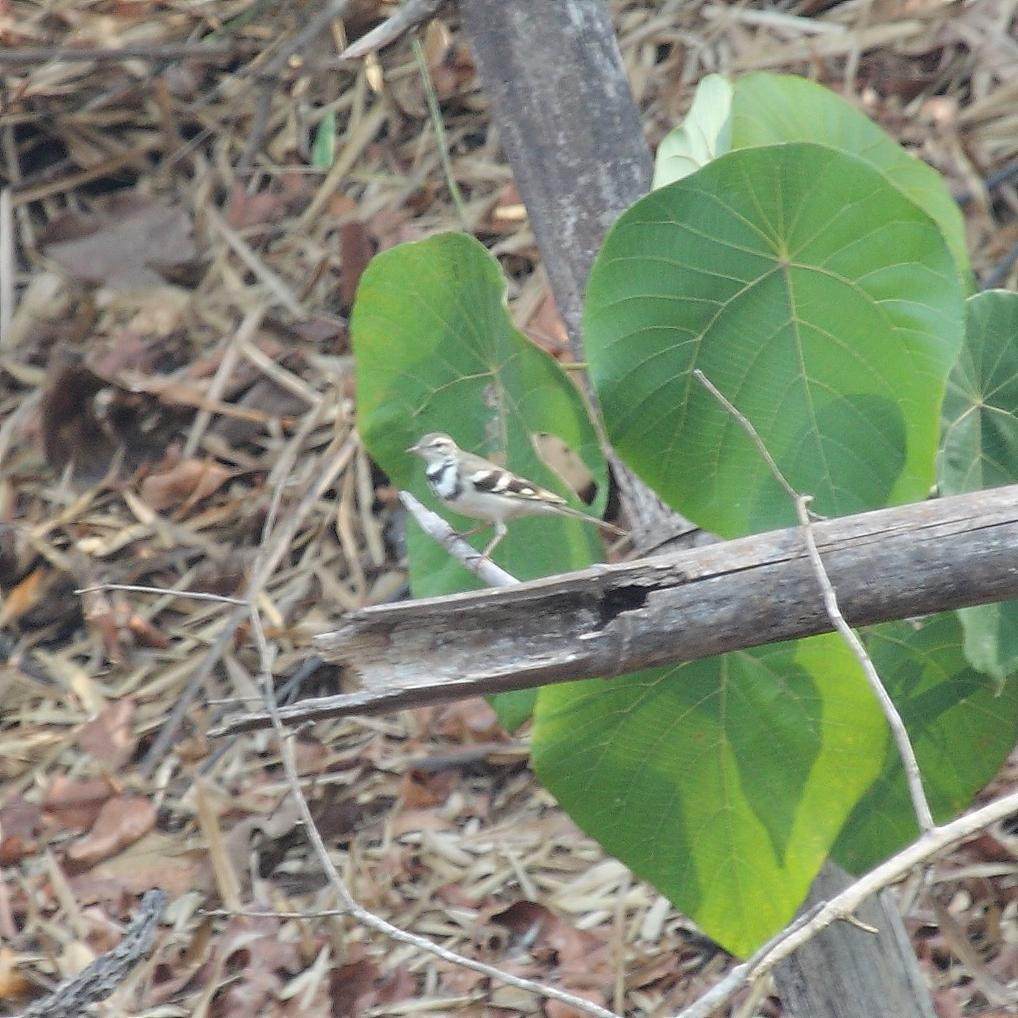wagtail: (403, 414, 612, 570)
